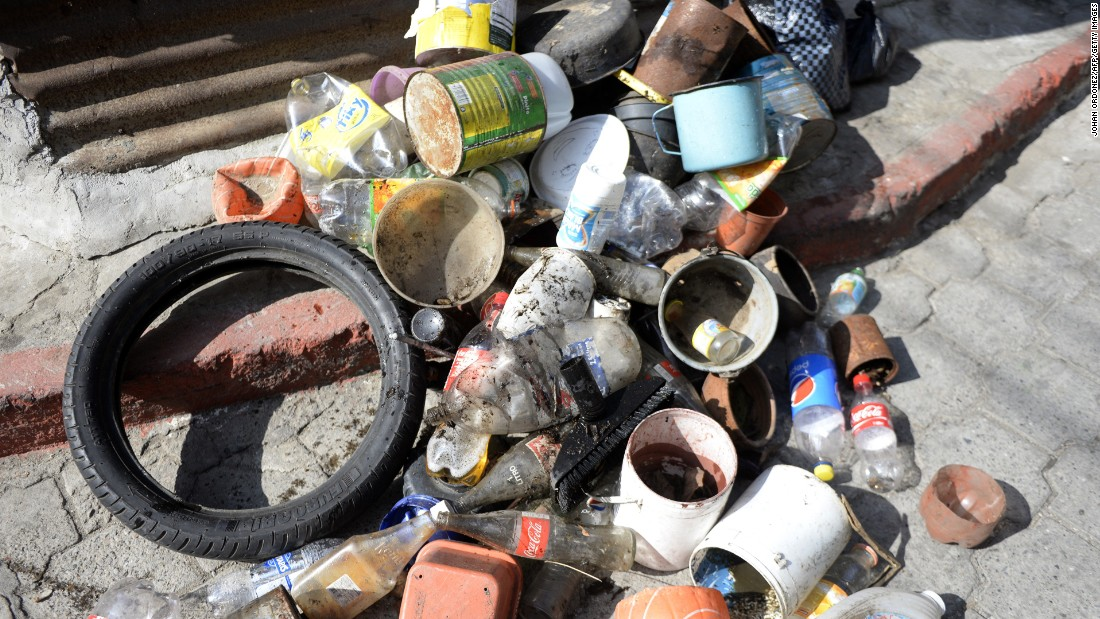container: (682, 464, 880, 619), (608, 400, 736, 574), (389, 49, 554, 181), (652, 247, 785, 380), (367, 180, 510, 303), (649, 71, 782, 170), (921, 453, 1010, 551), (192, 153, 306, 226)
tire: (50, 215, 429, 561)
trash: (48, 1, 1032, 618)
